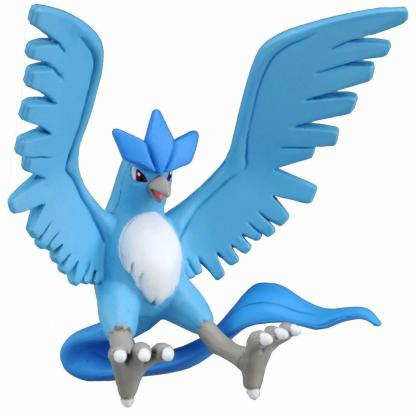Articuno: (22, 5, 389, 403)
